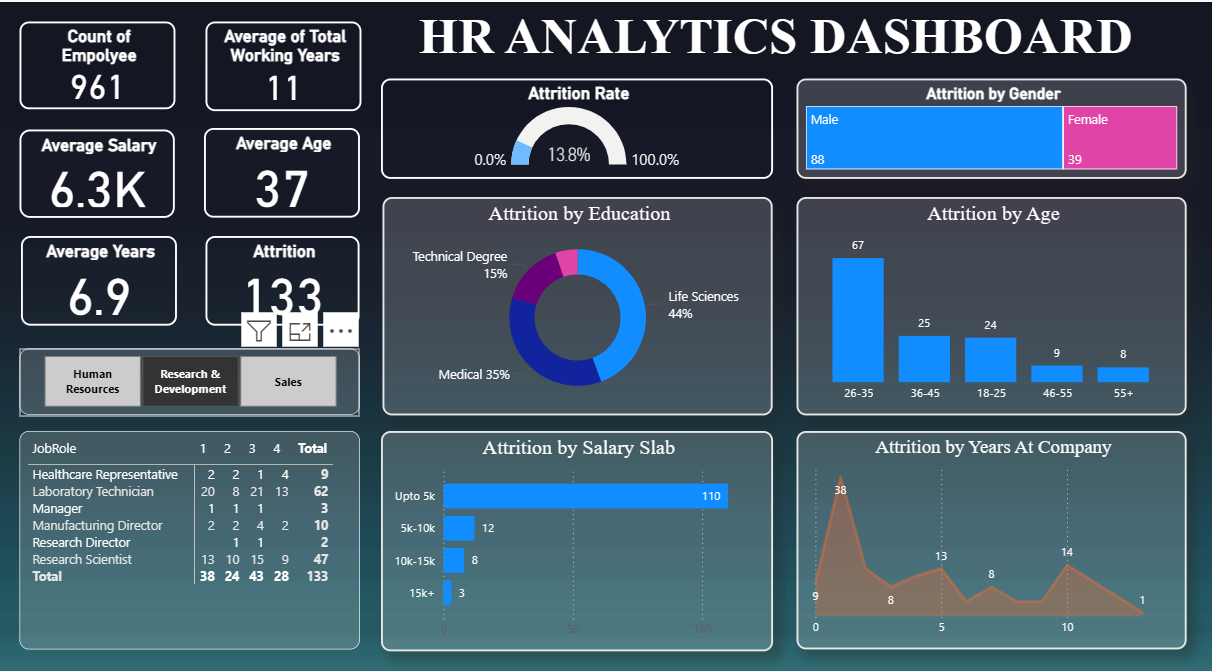

Layout of this report page (visuals, bound fields, positions):
{"tool":"powerbi","page":{"name":"Page 1","canvas":[1280,717],"ordinal":0},"visuals":[{"type":"card","title":"Count of  Empolyee","fields":{"Values":["CountNonNull(HR_Analytics.EmpID)"]},"box":[20.8,20.8,164.4,92.6],"z":0},{"type":"textbox","box":[381.7,0,875,85],"z":1000},{"type":"gauge","title":"Attrition  Rate","fields":{"Y":["HR_Analytics.AttritionRate"]},"box":[402.5,81.3,413.9,105.8],"z":2000},{"type":"card","title":"Attrition","fields":{"Values":["Sum(HR_Analytics.AttritionCount)"]},"box":[217.3,247.6,162.5,94.5],"z":3000},{"type":"card","title":"Average Age","fields":{"Values":["Avg(HR_Analytics.Age)"]},"box":[215.4,132.3,164.4,94.5],"z":4000},{"type":"card","title":"Average Years","fields":{"Values":["Avg(HR_Analytics.YearsAtCompany)"]},"box":[22.7,247.6,164.4,94.5],"z":5000},{"type":"card","title":"Average Salary","fields":{"Values":["Avg(HR_Analytics.MonthlyIncome)"]},"box":[20.8,134.2,164,93],"z":6000},{"type":"donutChart","title":"Attrition by Education","fields":{"Category":["HR_Analytics.EducationField"],"Y":["Sum(HR_Analytics.AttritionCount)"]},"box":[404.4,206,412,230.6],"z":7000},{"type":"columnChart","title":"Attrition by Age","fields":{"Category":["HR_Analytics.AgeGroup"],"Y":["Sum(HR_Analytics.AttritionCount)"]},"box":[841,206,412,230.6],"z":8000},{"type":"barChart","title":"Attrition by Salary Slab","fields":{"Category":["HR_Analytics.SalarySlab"],"Y":["Sum(HR_Analytics.AttritionCount)"]},"box":[402.5,453.5,413.9,232.4],"z":9000},{"type":"areaChart","title":"Attrition by Years At Company","fields":{"Category":["HR_Analytics.YearsAtCompany"],"Y":["Sum(HR_Analytics.AttritionCount)"]},"box":[841,453.5,412,230.6],"z":10000},{"type":"treemap","title":"Attrition by Gender","fields":{"Group":["HR_Analytics.Gender"],"Values":["Sum(HR_Analytics.AttritionCount)"]},"box":[841,81.3,412,105.8],"z":12000},{"type":"slicer","fields":{"Values":["HR_Analytics.Department"]},"box":[20.8,366.6,359.1,69.9],"z":13000},{"type":"pivotTable","fields":{"Rows":["HR_Analytics.JobRole"],"Columns":["HR_Analytics.JobSatisfaction"],"Values":["Sum(HR_Analytics.AttritionCount)"]},"box":[20.8,453.5,359.1,230.6],"z":14000},{"type":"card","title":"Average of Total Working Years","fields":{"Values":["Avg(HR_Analytics.TotalWorkingYears)"]},"box":[217.3,20.8,164.4,94.5],"z":15000}]}

Visuals, with their boxes in screenshot pixels (x1, y1, x2, y2), scaled from the page's 1280x717 canvas onto the 1212x671 screenshot:
"Count of  Empolyee" card: (x1=20, y1=19, x2=175, y2=106)
textbox: (x1=361, y1=0, x2=1190, y2=80)
"Attrition  Rate" gauge: (x1=381, y1=76, x2=773, y2=175)
"Attrition" card: (x1=206, y1=232, x2=360, y2=320)
"Average Age" card: (x1=204, y1=124, x2=360, y2=212)
"Average Years" card: (x1=21, y1=232, x2=177, y2=320)
"Average Salary" card: (x1=20, y1=126, x2=175, y2=213)
"Attrition by Education" donutChart: (x1=383, y1=193, x2=773, y2=409)
"Attrition by Age" columnChart: (x1=796, y1=193, x2=1186, y2=409)
"Attrition by Salary Slab" barChart: (x1=381, y1=424, x2=773, y2=642)
"Attrition by Years At Company" areaChart: (x1=796, y1=424, x2=1186, y2=640)
"Attrition by Gender" treemap: (x1=796, y1=76, x2=1186, y2=175)
slicer - HR_Analytics.Department: (x1=20, y1=343, x2=360, y2=408)
pivotTable - HR_Analytics.JobRole x HR_Analytics.JobSatisfaction: (x1=20, y1=424, x2=360, y2=640)
"Average of Total Working Years" card: (x1=206, y1=19, x2=361, y2=108)
